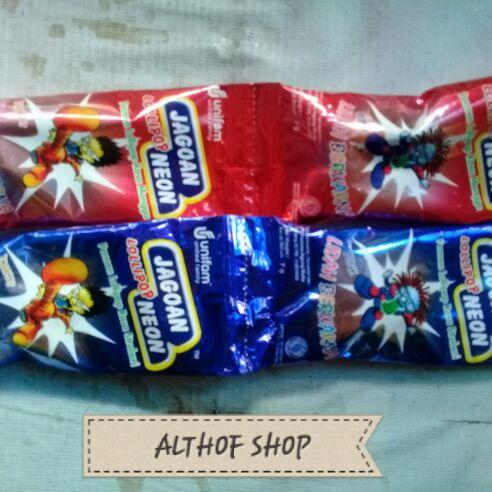jagoan_neon: (1, 215, 251, 377), (247, 216, 492, 371), (2, 83, 251, 229), (251, 75, 492, 218)
